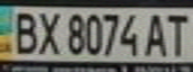0: (81, 10, 103, 56)
4: (118, 10, 142, 57)
7: (100, 10, 121, 56)
8: (63, 9, 87, 56)
A: (142, 10, 172, 57)
B: (6, 8, 42, 55)
T: (163, 9, 193, 57)
X: (33, 8, 63, 55)
